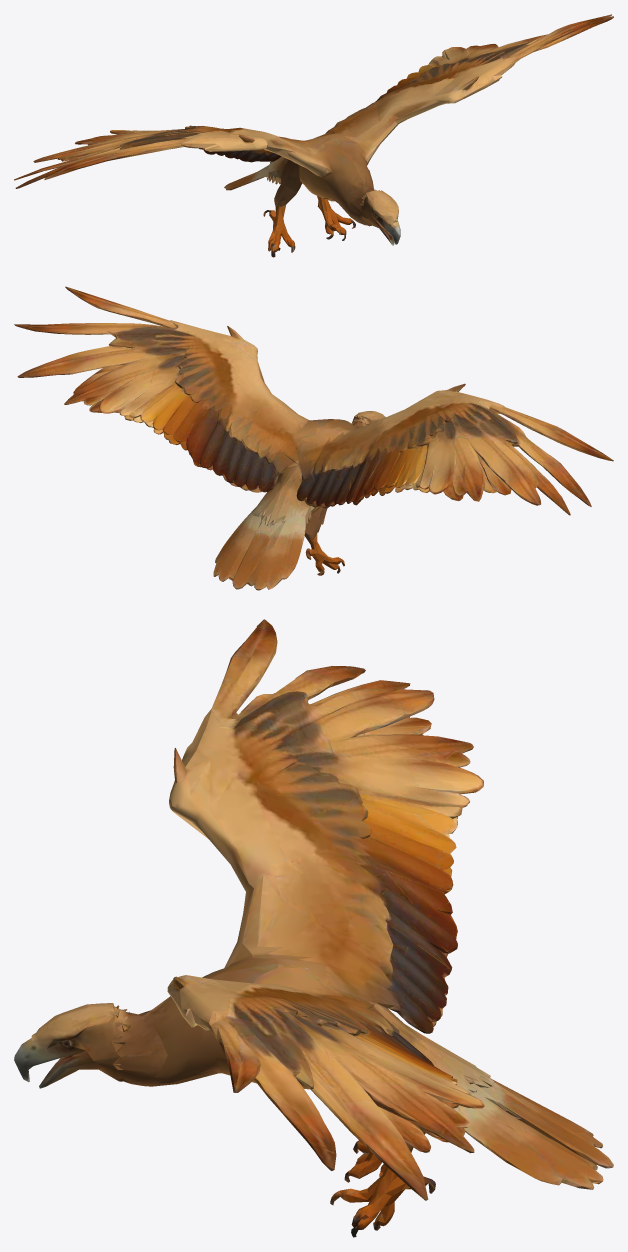
The model's file is roc.glb.
3 renders of one model, top to bottom at view 1: azimuth 30°, elevation 25°; view 2: azimuth 150°, elevation 25°; view 3: azimuth 270°, elevation 25°, orthographic. The views are drawn at different scales.
Bounding box in the file's own units: 1.9 × 0.5908 × 0.8501.
Materials: 1 (1 with a texture image).
